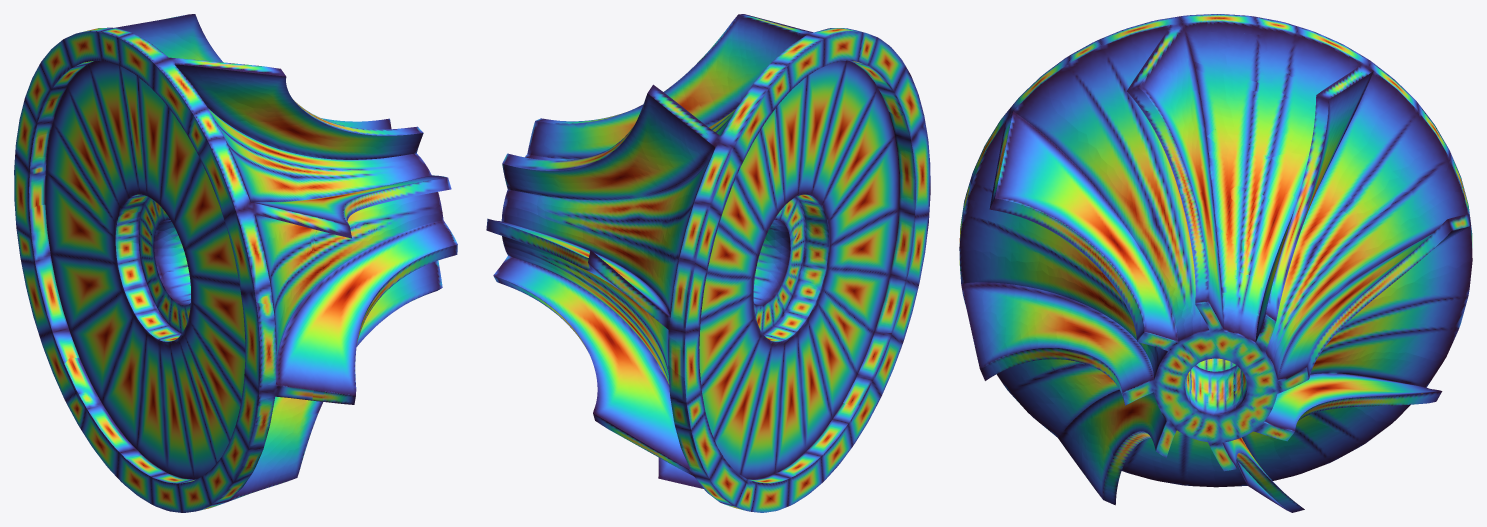
Rendered from gen1.glb.
The picture shows the model from 3 angles, left to right: view 1: azimuth 30°, elevation 25°; view 2: azimuth 150°, elevation 25°; view 3: azimuth 270°, elevation 25°; orthographic projection. The views are drawn at different scales.
Visible parts, largest first — view 1: Node; view 2: Node; view 3: Node.
Boxes of the visible parts, left/top/right/bottom form: Node: left=14, top=14, right=457, bottom=512; Node: left=486, top=14, right=930, bottom=512; Node: left=959, top=14, right=1472, bottom=512.
Bounding box in the file's own units: 1.29 × 2 × 2.
Materials: 1 (1 with a texture image).
